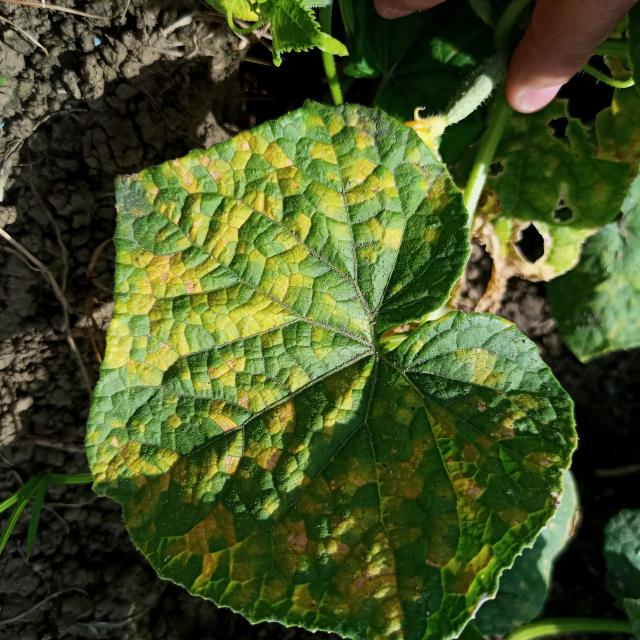disease_cucumber: (93, 110, 554, 636)
